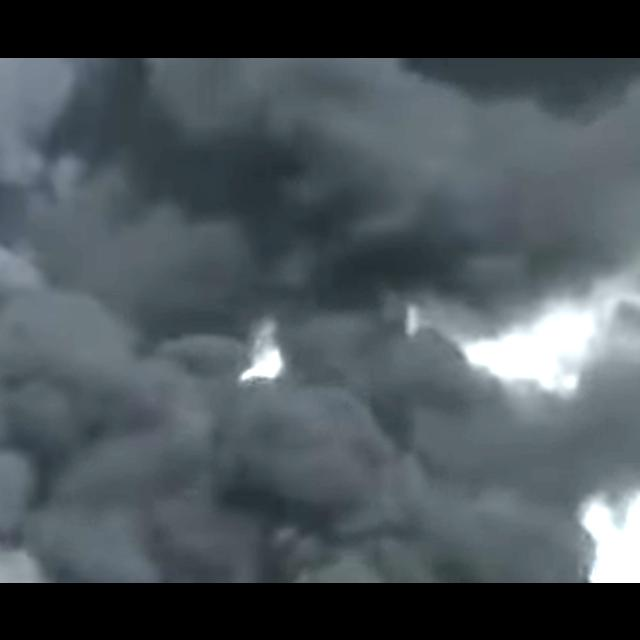smoke: (0, 57, 640, 582)
